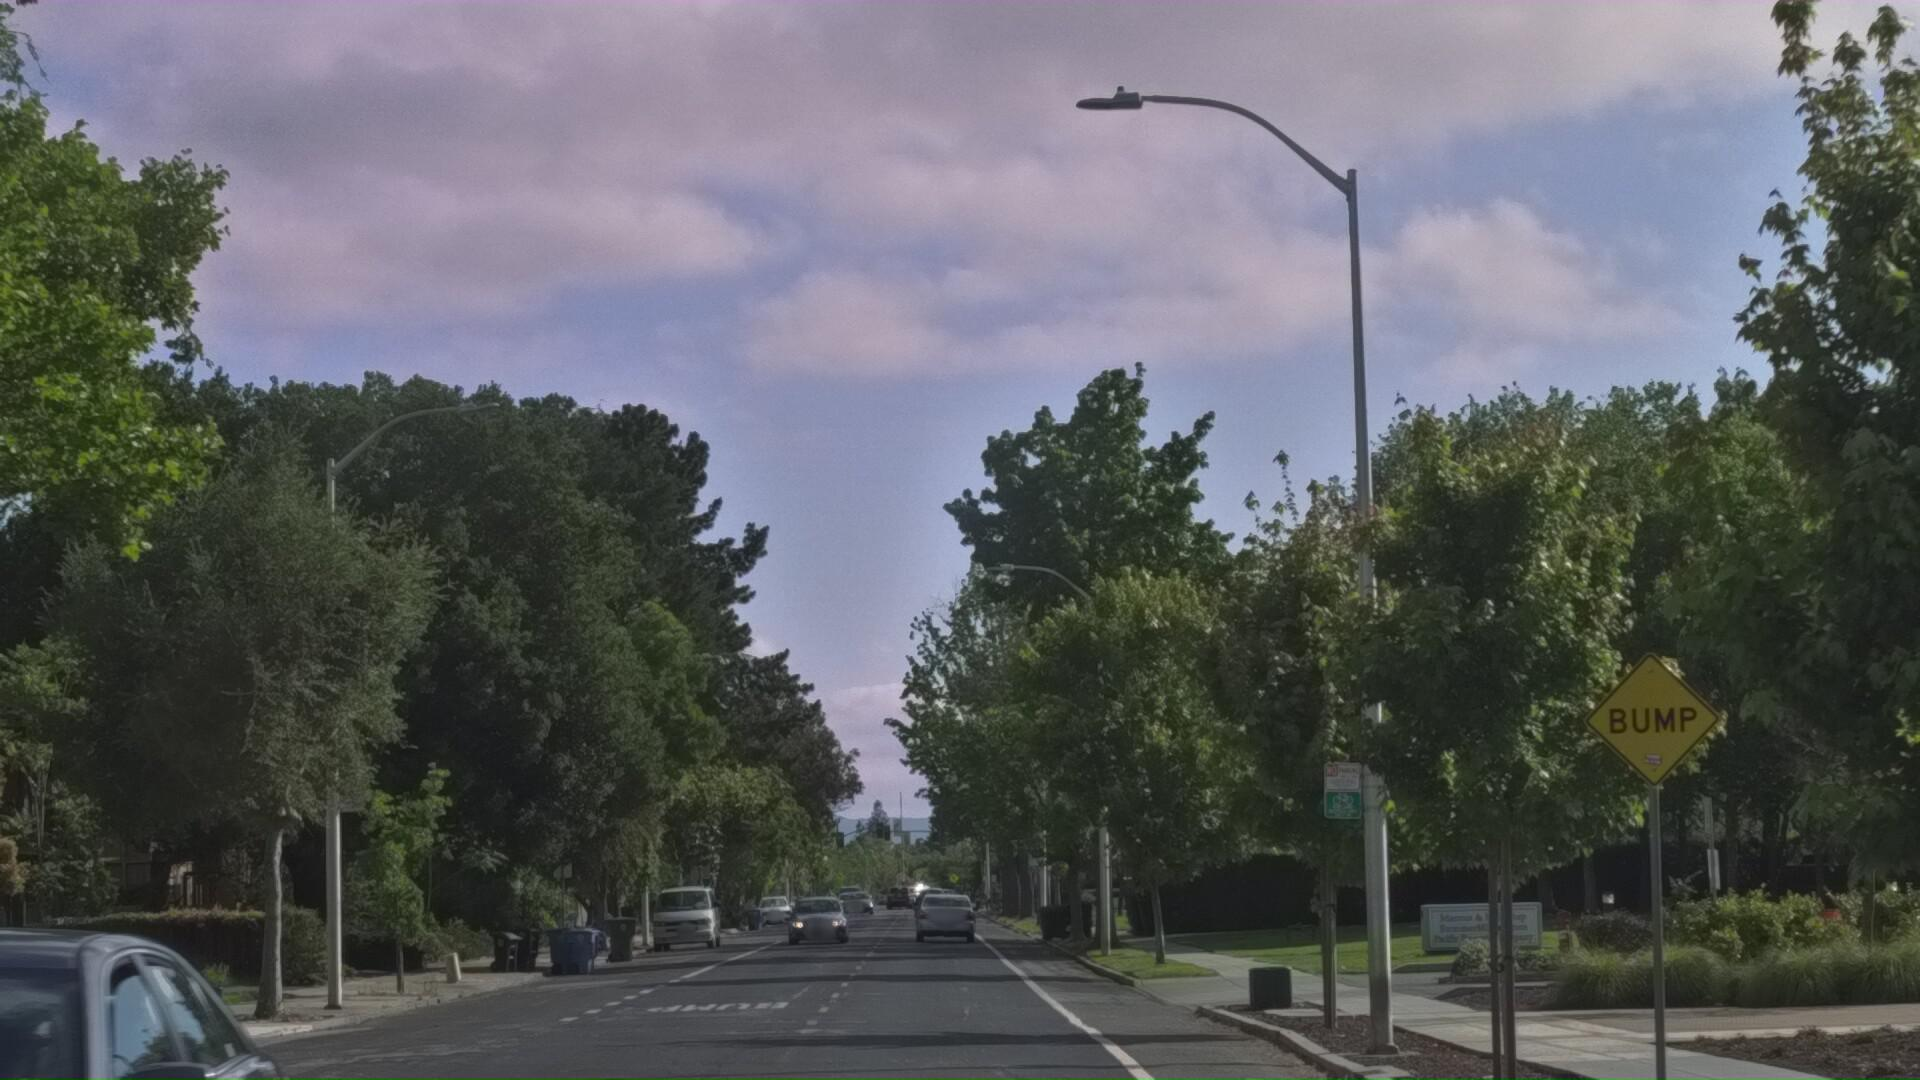car: (0, 913, 301, 1080)
